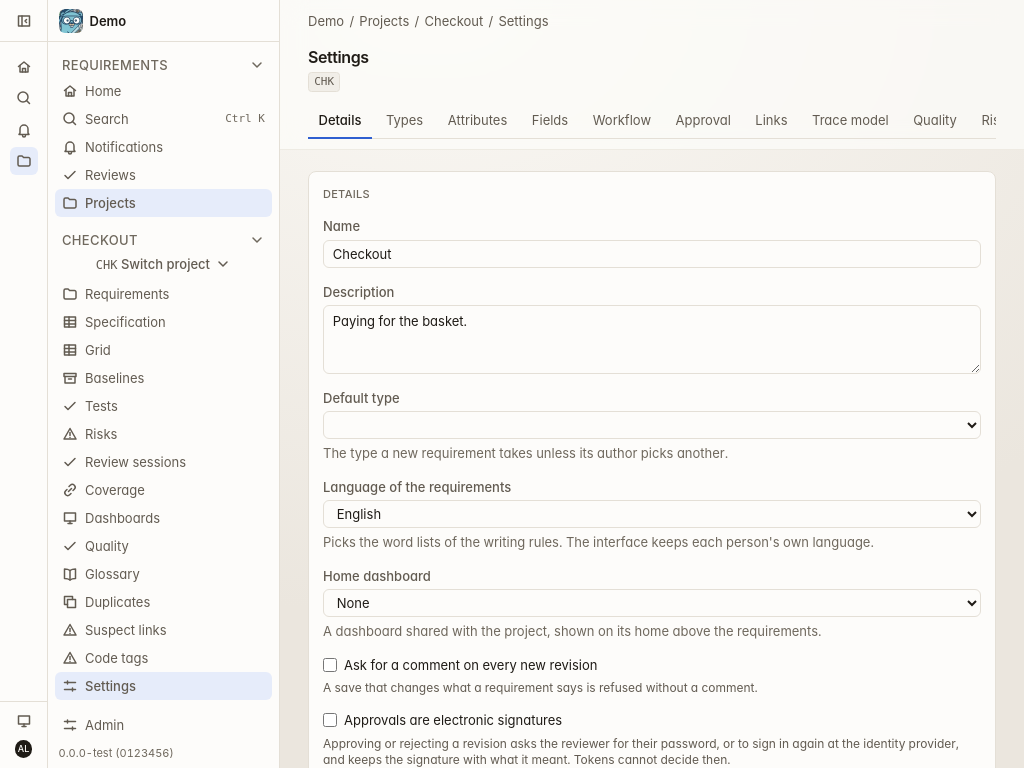
computed attributes › are listed with their formula, and say how far a recompute has got
Click the tab "Attributes".
click(478, 121)  # box 437,103 -> 518,139
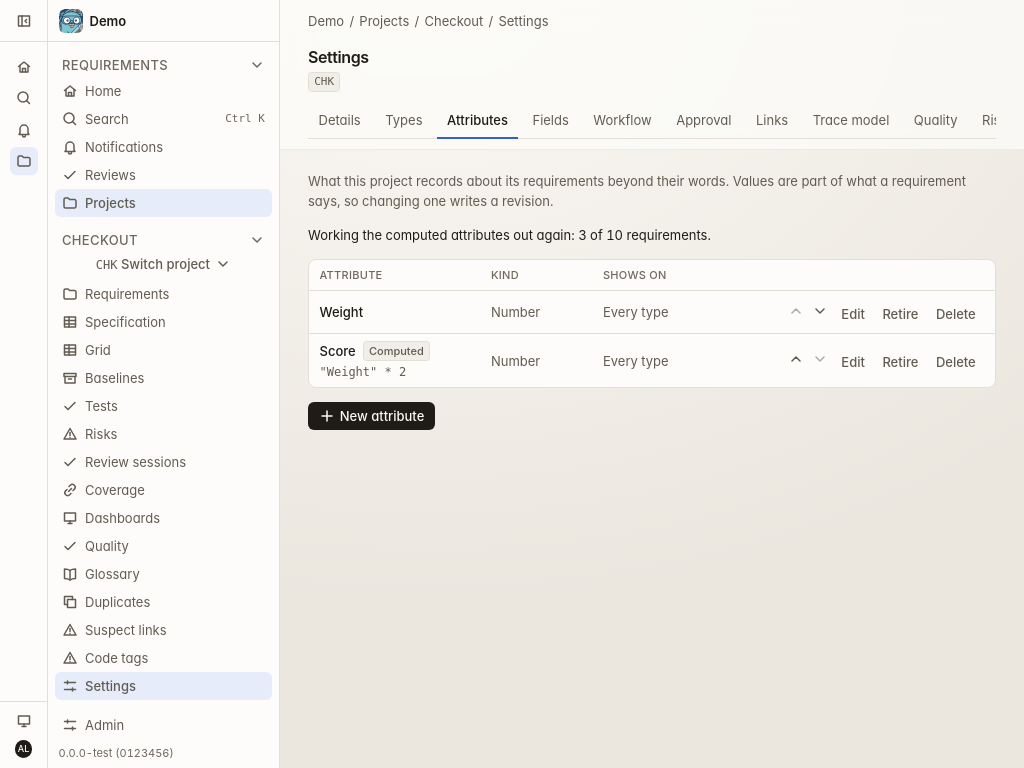
Expected: the text "Computed" is shown, 363,341 -> 430,361
Expected: the text "\"Weight\" * 2" is shown, 320,365 -> 406,379
Expected: the message reads "Working the computed attributes out again: 3 of 10 requirements.", 308,227 -> 711,243
